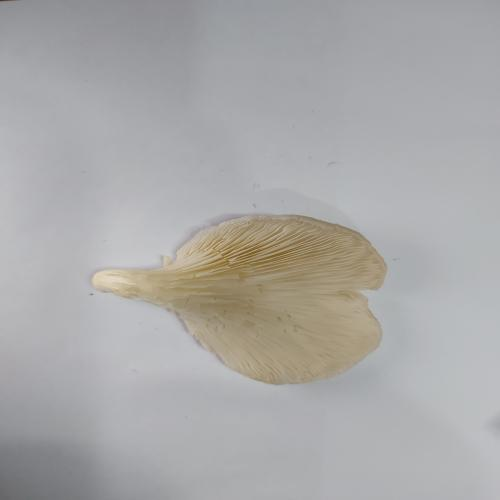Oyster Mushroom: (91, 213, 388, 386)
